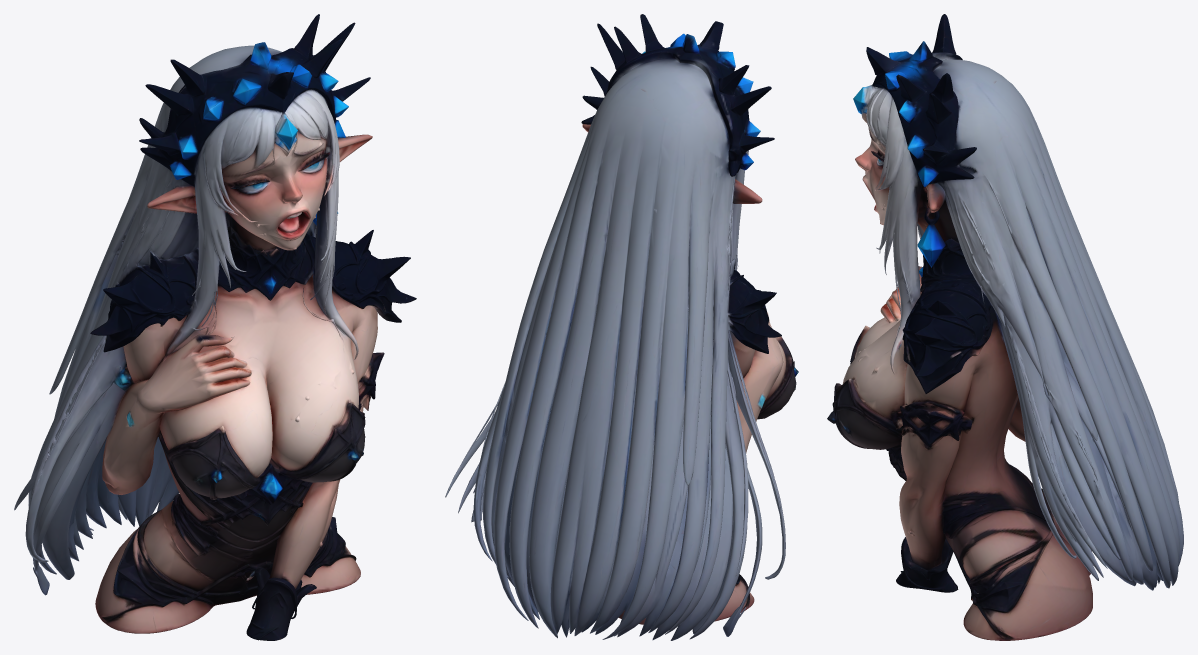
The picture shows the model from 3 angles, left to right: view 1: azimuth 30°, elevation 25°; view 2: azimuth 150°, elevation 25°; view 3: azimuth 270°, elevation 25°; orthographic projection. The views are drawn at different scales.
Parts seen in each view (by area): view 1: node_0; view 2: node_0; view 3: node_0.
Part boxes in pixels (box(x1,y1,x2,y2)): node_0: box(14, 14, 416, 640); node_0: box(445, 14, 798, 640); node_0: box(827, 14, 1183, 640).
Size of the model in its own units: 0.6484 by 1.05 by 0.6333.
1 material, 1 textured.
